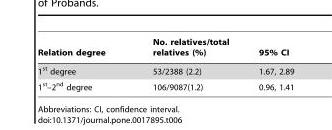table: (37, 37, 293, 91)
table column: (128, 37, 243, 91), (37, 37, 128, 91), (243, 37, 293, 91)
table column header: (37, 37, 293, 60)
table row: (37, 37, 293, 60), (37, 60, 293, 78), (37, 78, 293, 91)
